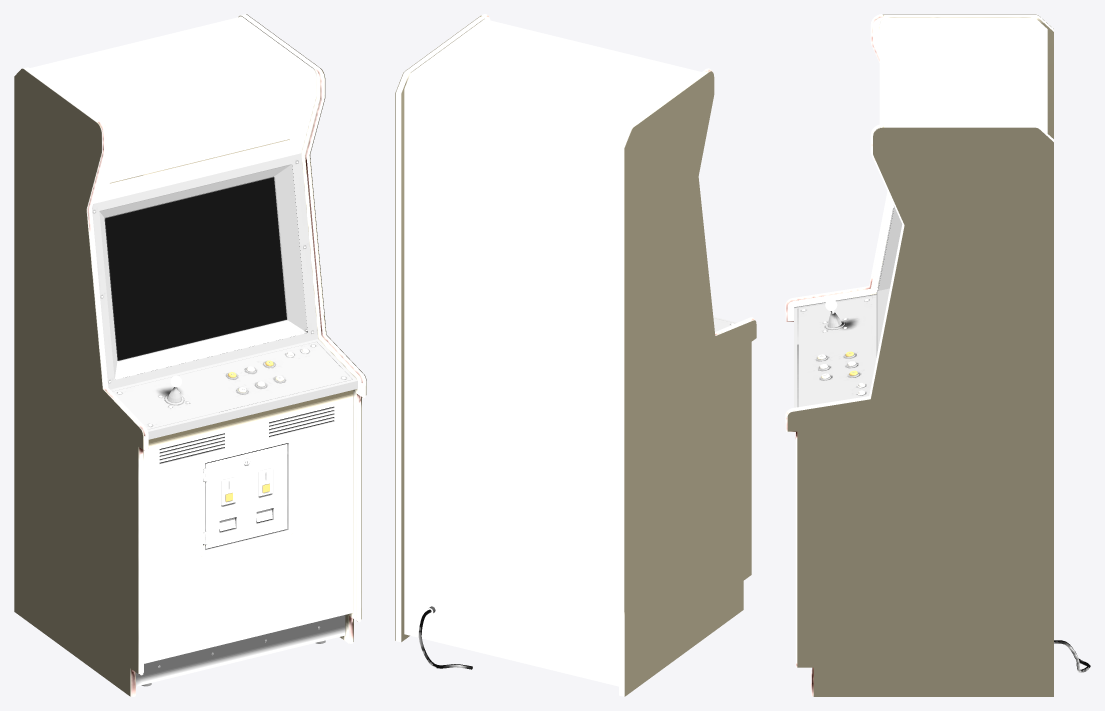
The model's file is cab-cab-no-9-v2.glb.
3 views of the same model, side by side, from view 1: azimuth 30°, elevation 25°; view 2: azimuth 150°, elevation 25°; view 3: azimuth 270°, elevation 25° (orthographic). The views are drawn at different scales.
Visible parts, largest first — view 1: body, side_art_l, screen, glass, trim, metal, side_art_r; view 2: body, side_art_l, side_art_r; view 3: side_art_r, body, trim.
Part boxes in pixels (x1,y1,x2,y2): body: (22,14,366,696); side_art_l: (14,68,142,696); screen: (105,177,286,360); glass: (106,177,287,360); trim: (87,67,365,696); metal: (93,161,345,686); side_art_r: (246,14,366,641); body: (396,16,753,696); side_art_l: (624,71,756,696); side_art_r: (395,16,480,640); side_art_r: (787,127,1053,696); body: (787,15,1053,415); trim: (785,14,904,696).
Bounding box in the file's own units: 0.823 × 1.94 × 0.9398.
Materials: 22 (6 with a texture image).
